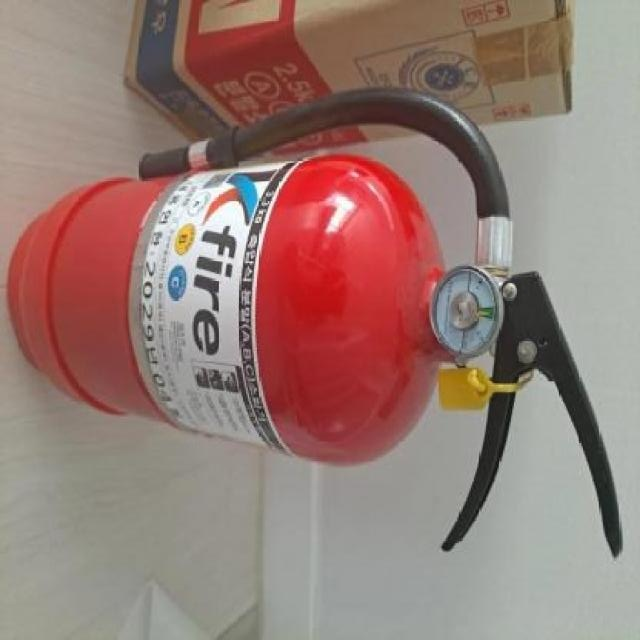fire extinguisher: (5, 85, 624, 560)
